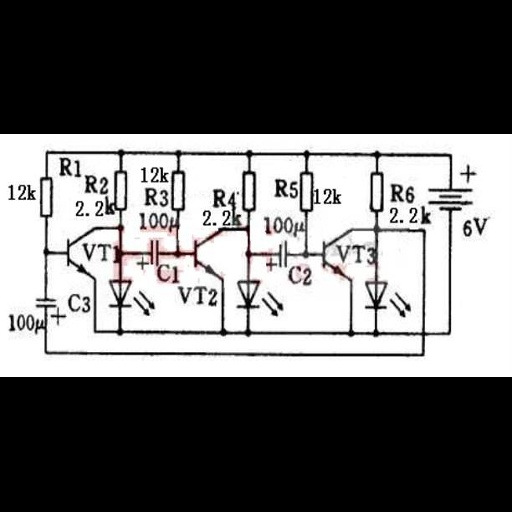battery: (426, 161, 476, 211)
firstpolarcapacitor: (30, 292, 66, 325), (260, 238, 289, 272), (136, 237, 161, 269)
firstresistance: (239, 169, 262, 213), (367, 167, 386, 216), (112, 168, 133, 212), (37, 175, 56, 222), (170, 168, 189, 213), (297, 168, 315, 215)
npn: (55, 231, 93, 281), (188, 234, 228, 281), (313, 230, 349, 278)
secondled: (232, 277, 288, 320), (360, 276, 413, 320), (104, 276, 157, 317)
